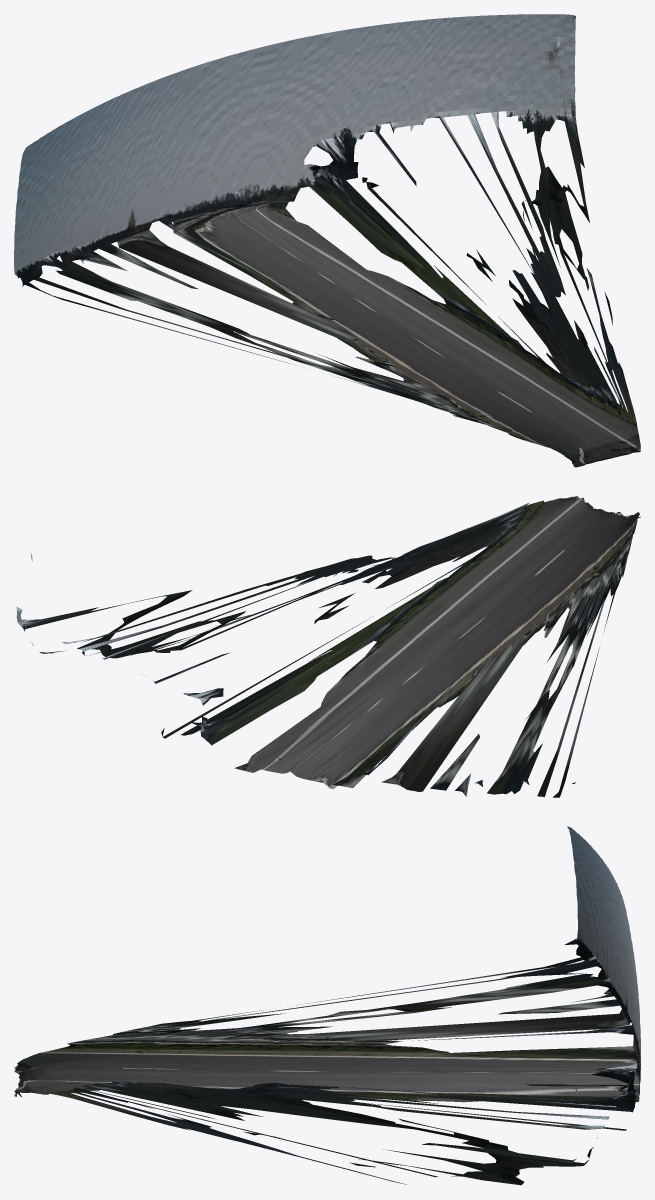
The picture shows the model from 3 angles, top to bottom: view 1: azimuth 30°, elevation 25°; view 2: azimuth 150°, elevation 25°; view 3: azimuth 270°, elevation 25°; orthographic projection. The views are drawn at different scales.
Visible parts, largest first — view 1: defaultobject; view 2: defaultobject; view 3: defaultobject.
Part boxes in pixels (left/top/right/bottom): defaultobject: left=14, top=14, right=640, bottom=467; defaultobject: left=16, top=496, right=640, bottom=797; defaultobject: left=14, top=826, right=640, bottom=1185.
Size of the model in its own units: 41.11 by 12.7 by 44.46.
Materials: 1 (1 with a texture image).
